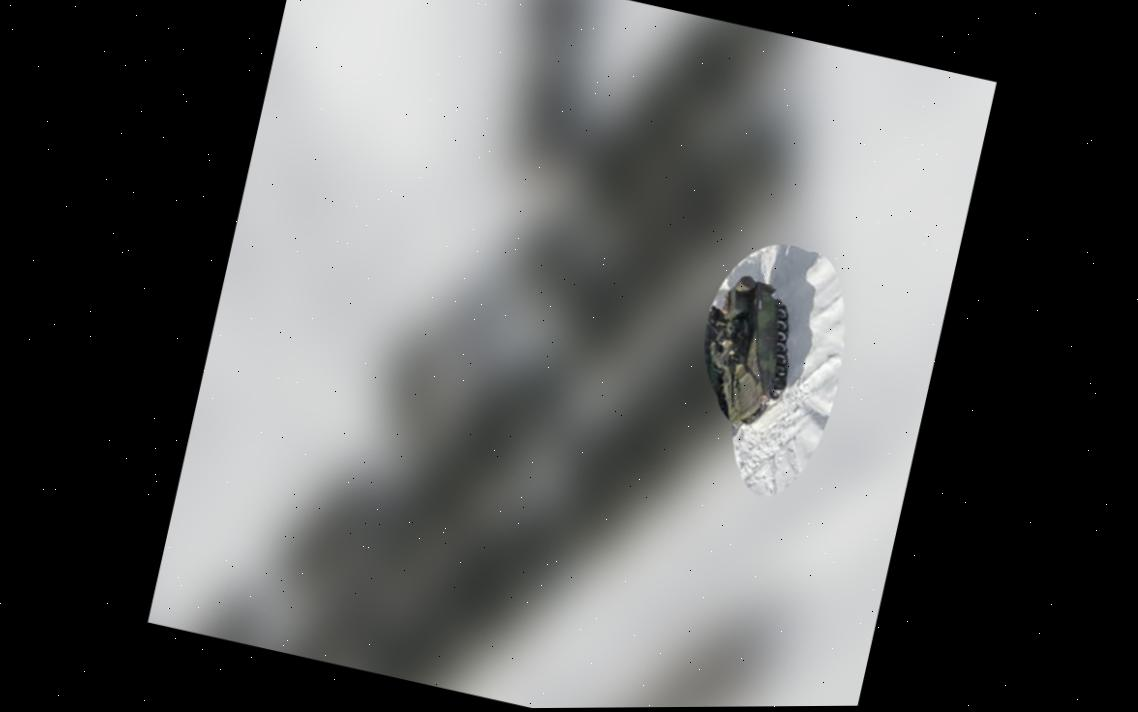tank: (683, 269, 809, 444)
